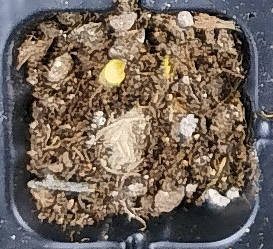pepper seed: (75, 13, 250, 93), (41, 16, 167, 102)
